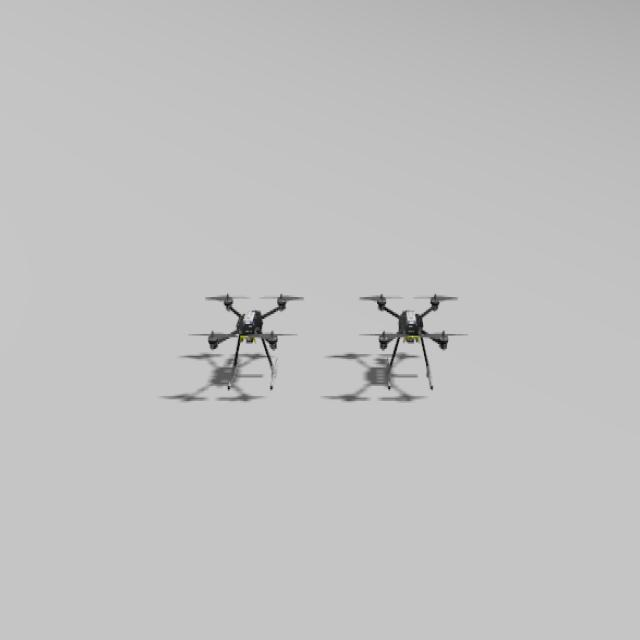drone: (349, 287, 454, 397), (202, 287, 306, 391)
